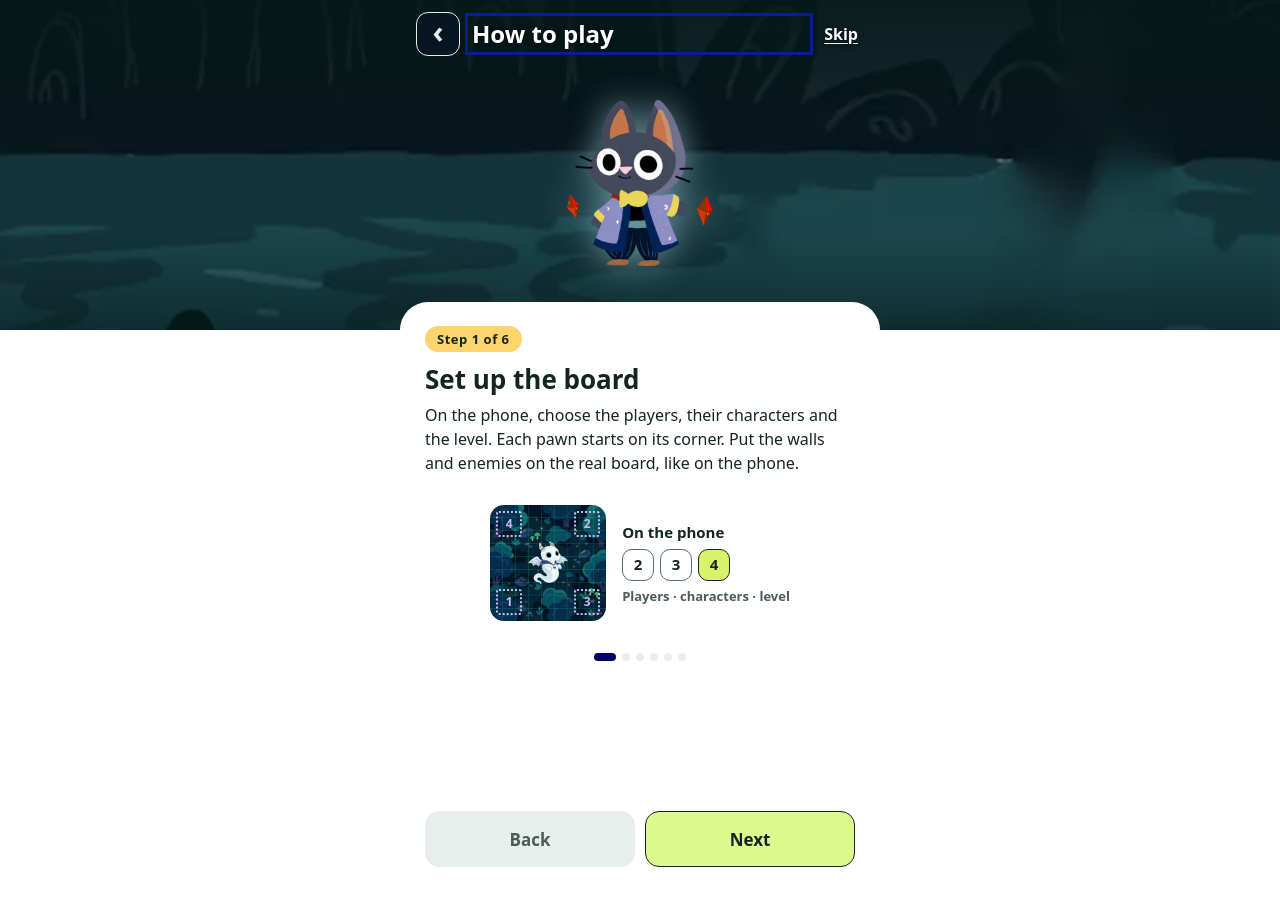
Test: HowToPlayScreen (D28) › step 2 shows the 3 cards with their alt; other art is decorative
This screenshot has width=1280, height=900.
Click the button "Next".
click(750, 839)  # box [645,811,855,867]
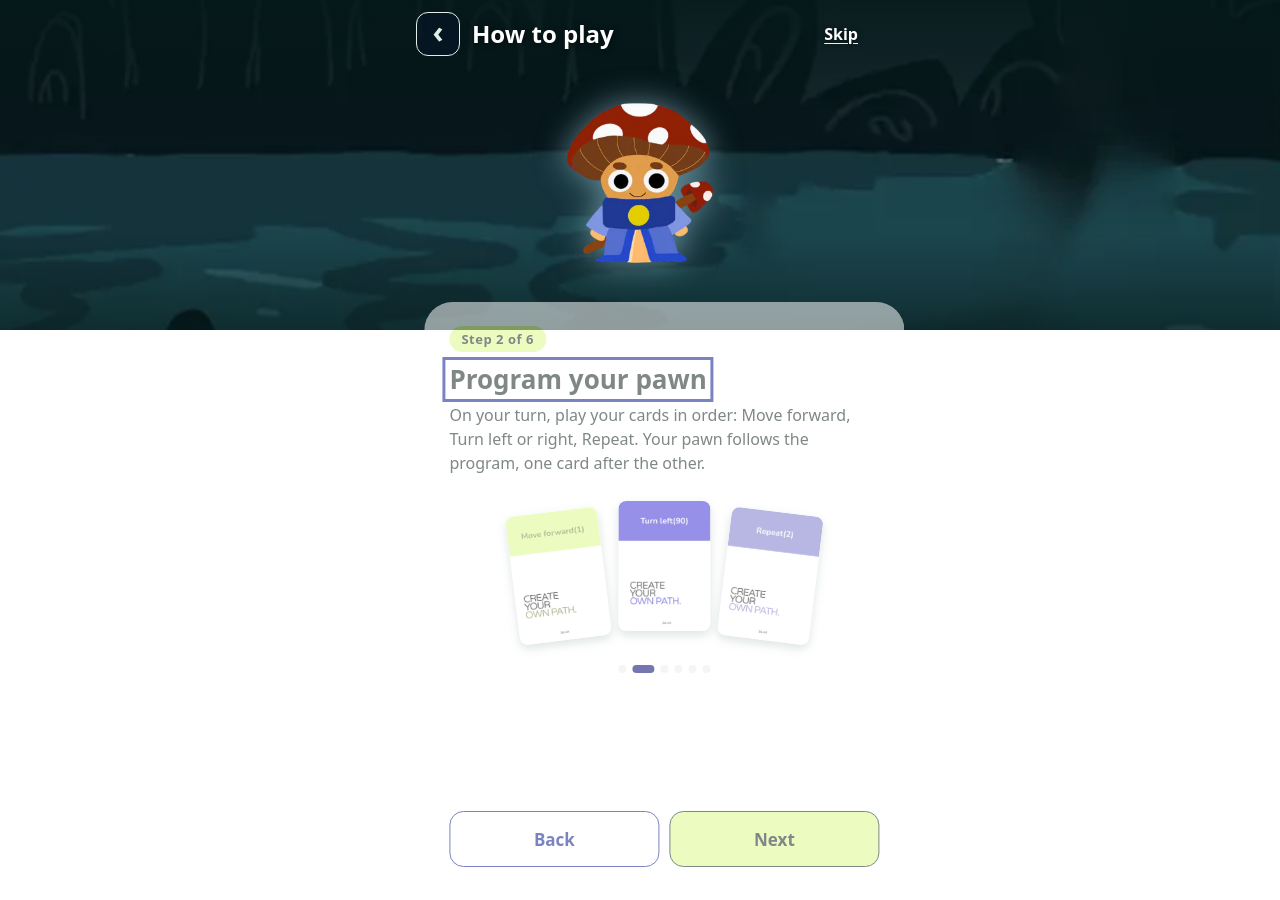
Expected: the picture named "Card: Move forward(1)" is shown, [502,507,609,646]
Expected: the picture named "Card: Turn left(90)" is shown, [615,501,707,631]
Expected: the picture named "Card: Repeat(2)" is shown, [713,507,820,646]
